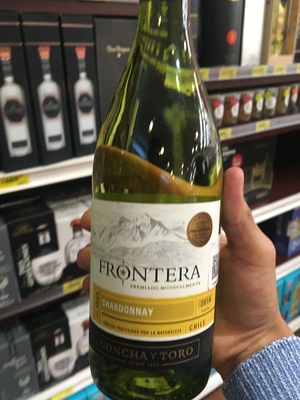frontera chardonnay: (81, 7, 238, 400)
